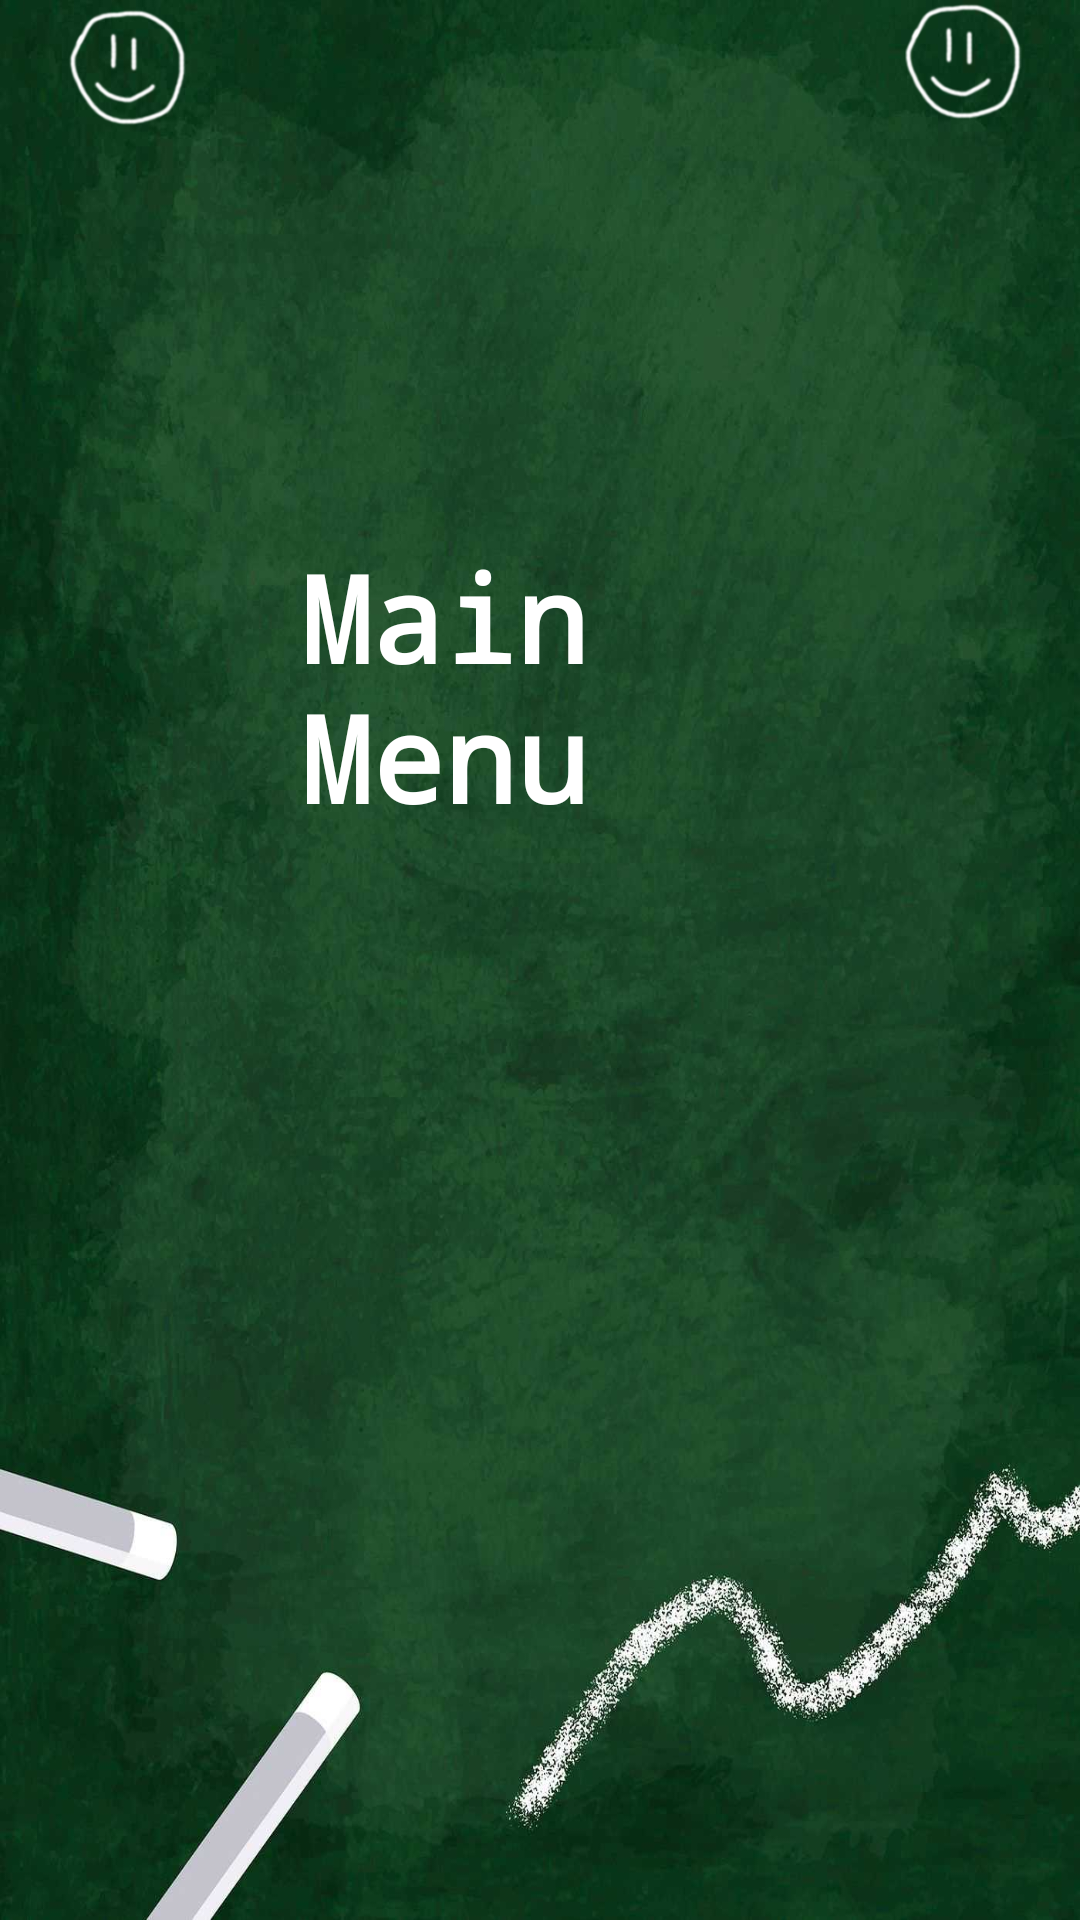

Icon click points for this 1080px x 1920px phone screenshot, format point (x, y):
chalk face: point (963, 61), point (127, 67)
